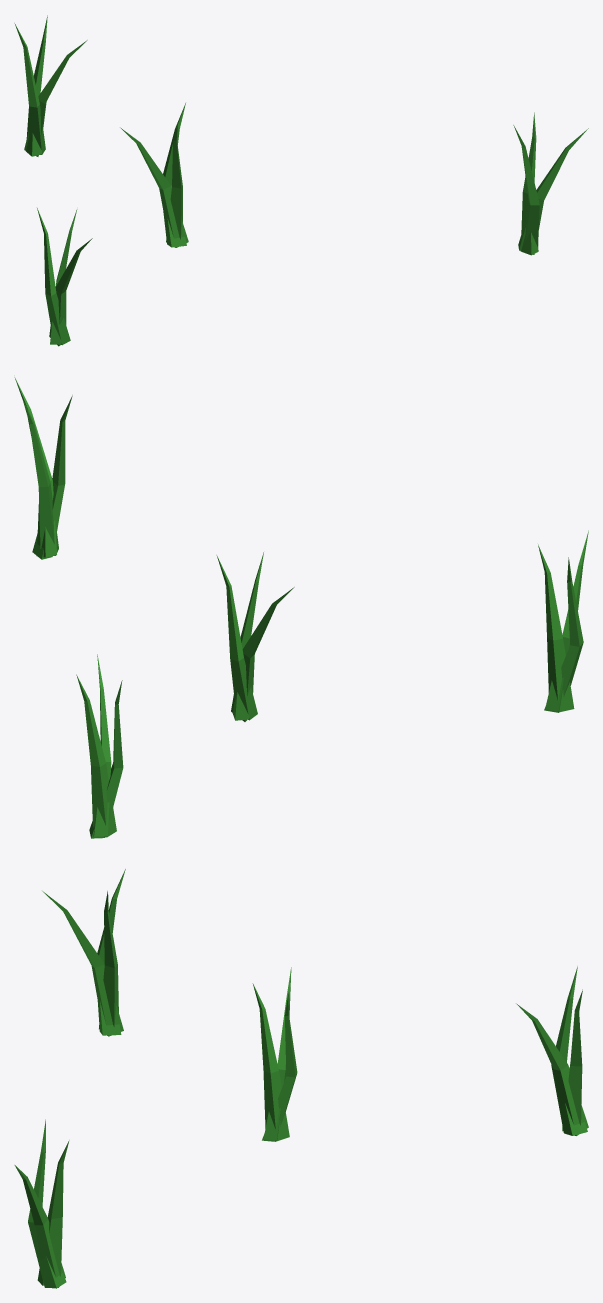
The model's file is grasstile2.fbx.
3 views of the same model, one above another, from view 1: azimuth 30°, elevation 25°; view 2: azimuth 150°, elevation 25°; view 3: azimuth 270°, elevation 25° (orthographic). The views are drawn at different scales.
Visible parts, largest first — view 1: grass.002, grass.001, grass.003, grass.004; view 2: grass.004, grass.003, grass.002, grass.001; view 3: grass.003, grass.001, grass.002, grass.004.
Part boxes in pixels (x1,y1,x2,y2): grass.002: (120,103,188,247); grass.001: (513,112,588,255); grass.003: (14,15,87,156); grass.004: (37,208,92,346); grass.004: (538,530,588,712); grass.003: (76,654,123,838); grass.002: (216,552,294,721); grass.001: (14,377,72,559); grass.003: (516,966,588,1135); grass.001: (14,1119,69,1288); grass.002: (252,967,297,1141); grass.004: (42,869,125,1036).
Size of the model in its own units: 145 by 37.51 by 123.
